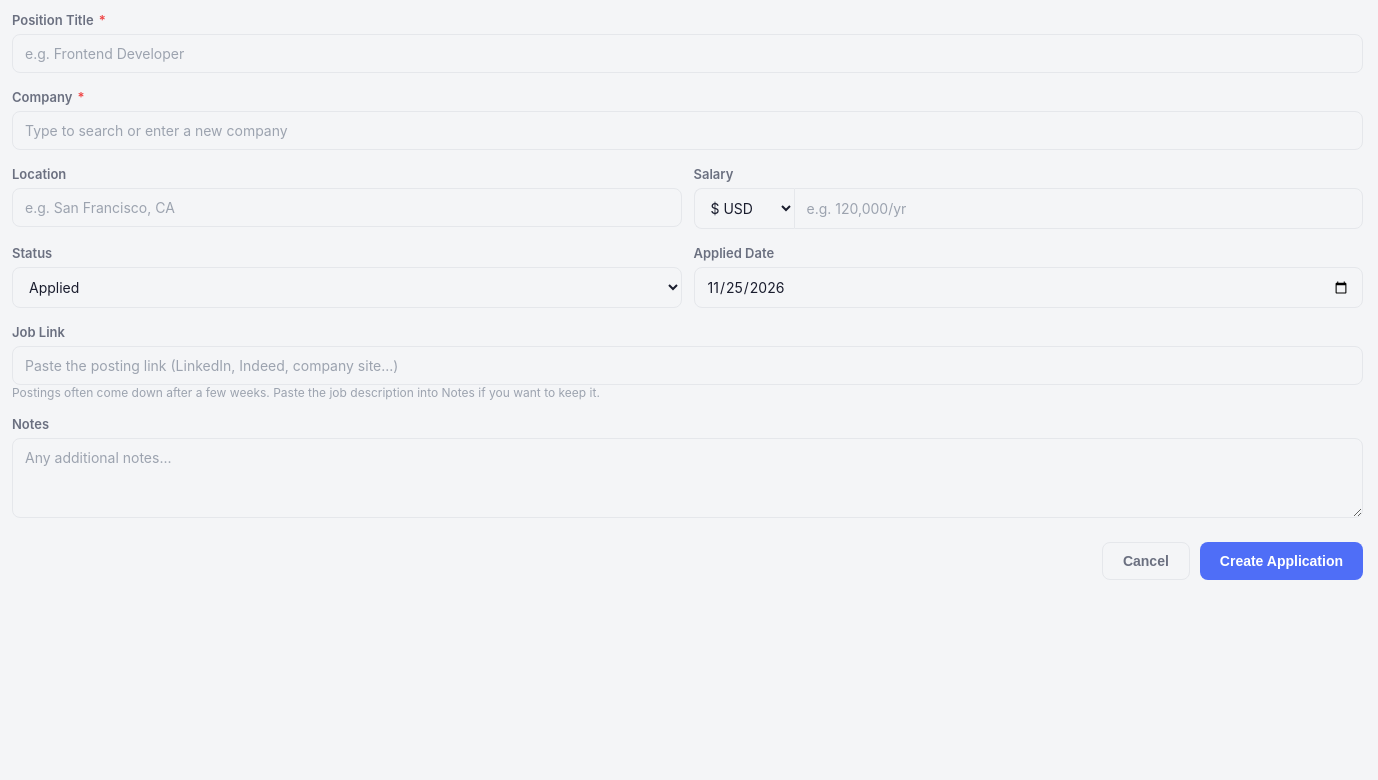
ApplicationForm › suggests Chinese cities when typed in pinyin
The image size is (1378, 780).
Type "shenzhen" into the field with placeholder "e.g. San Francisco, CA" at (347, 208), box [12,188,682,227]
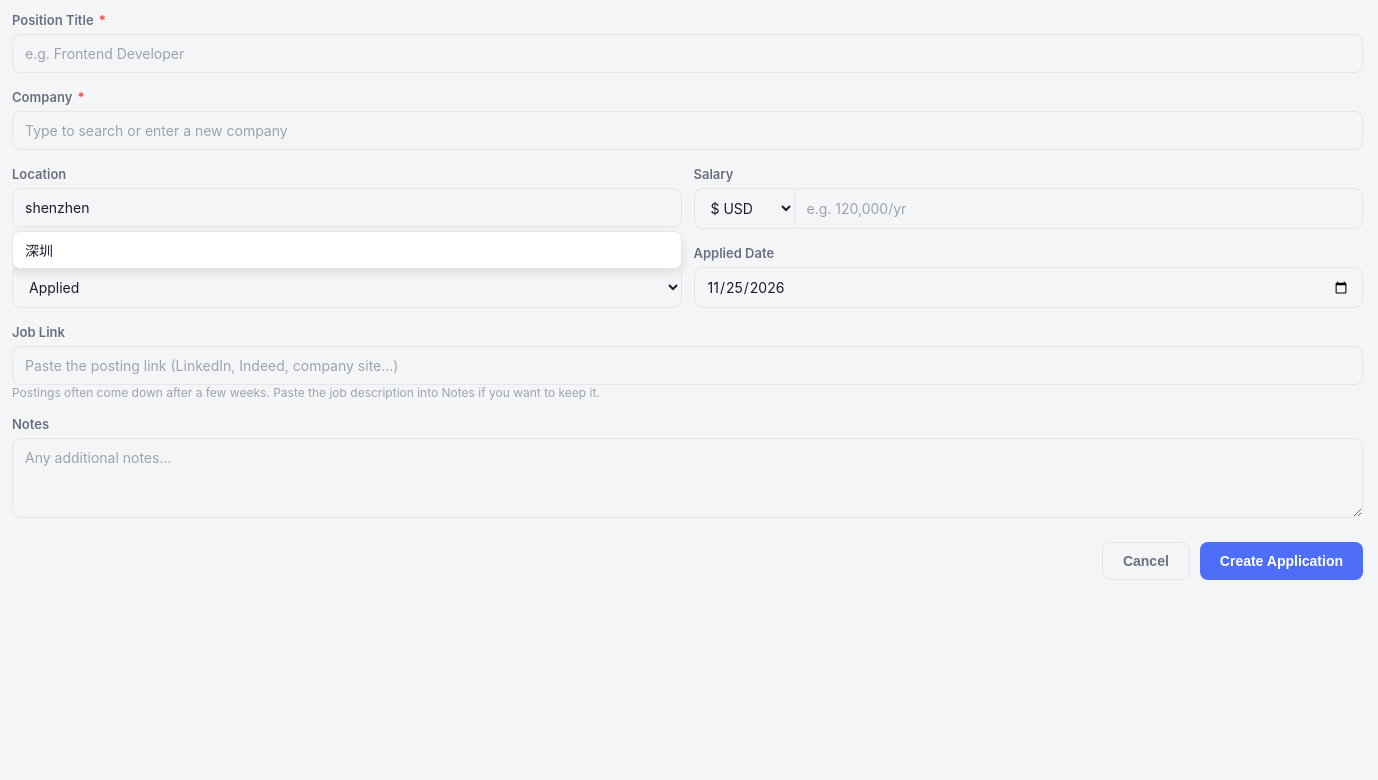
Expected: the text "深圳" is shown, [25,242,53,259]
